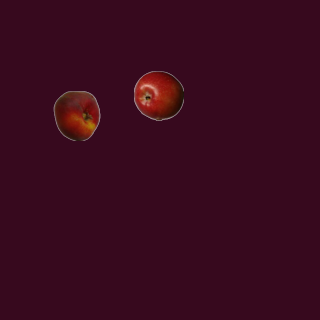Apple Braeburn: (133, 70, 183, 120)
Nectarine Flat: (51, 90, 101, 140)
